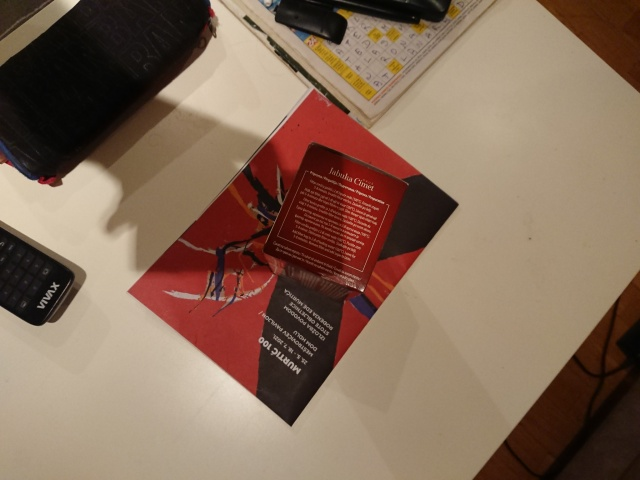Franck Apple Cinnamon Tea 60g: (259, 140, 413, 306)
